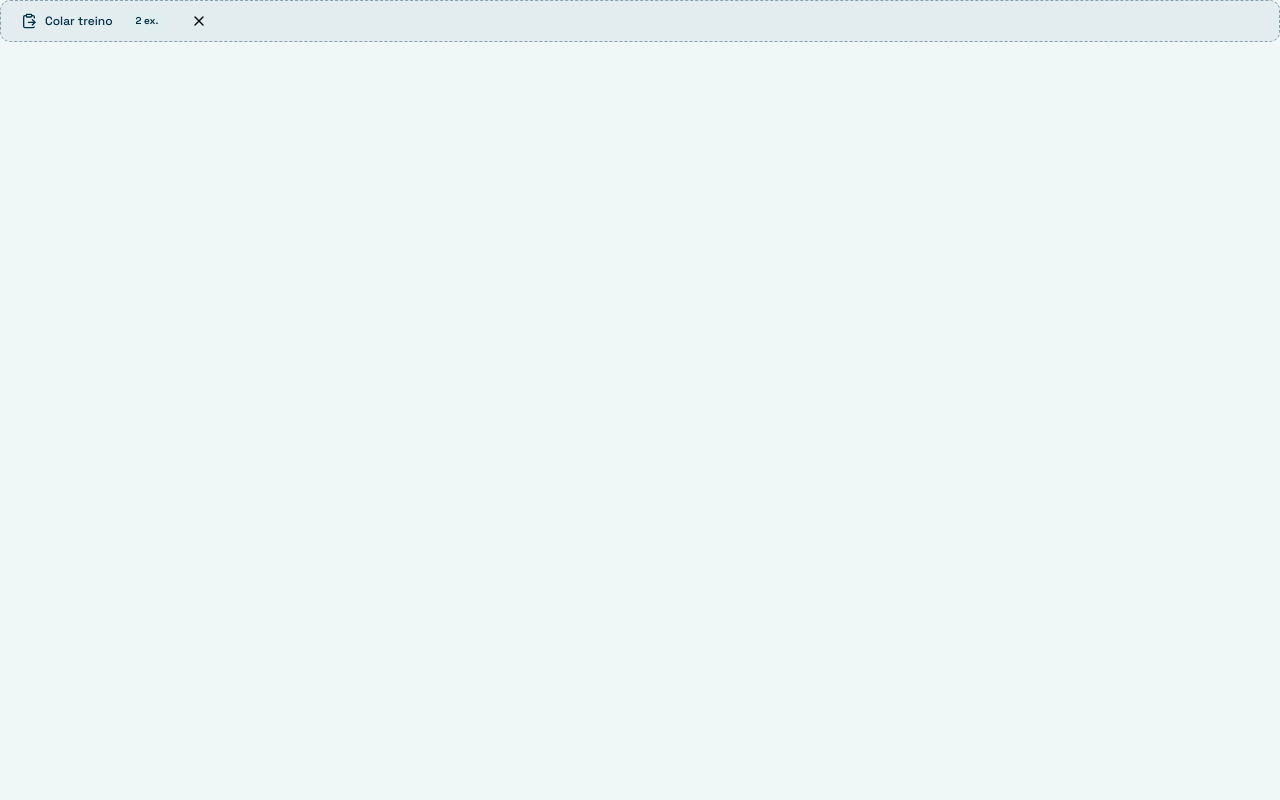
Test: ColarTreinoButton › shows the same-student message when pasting into the workout's own source student
Click the button "Colar treino 2 ex.": (95, 21) [9,5,181,37]
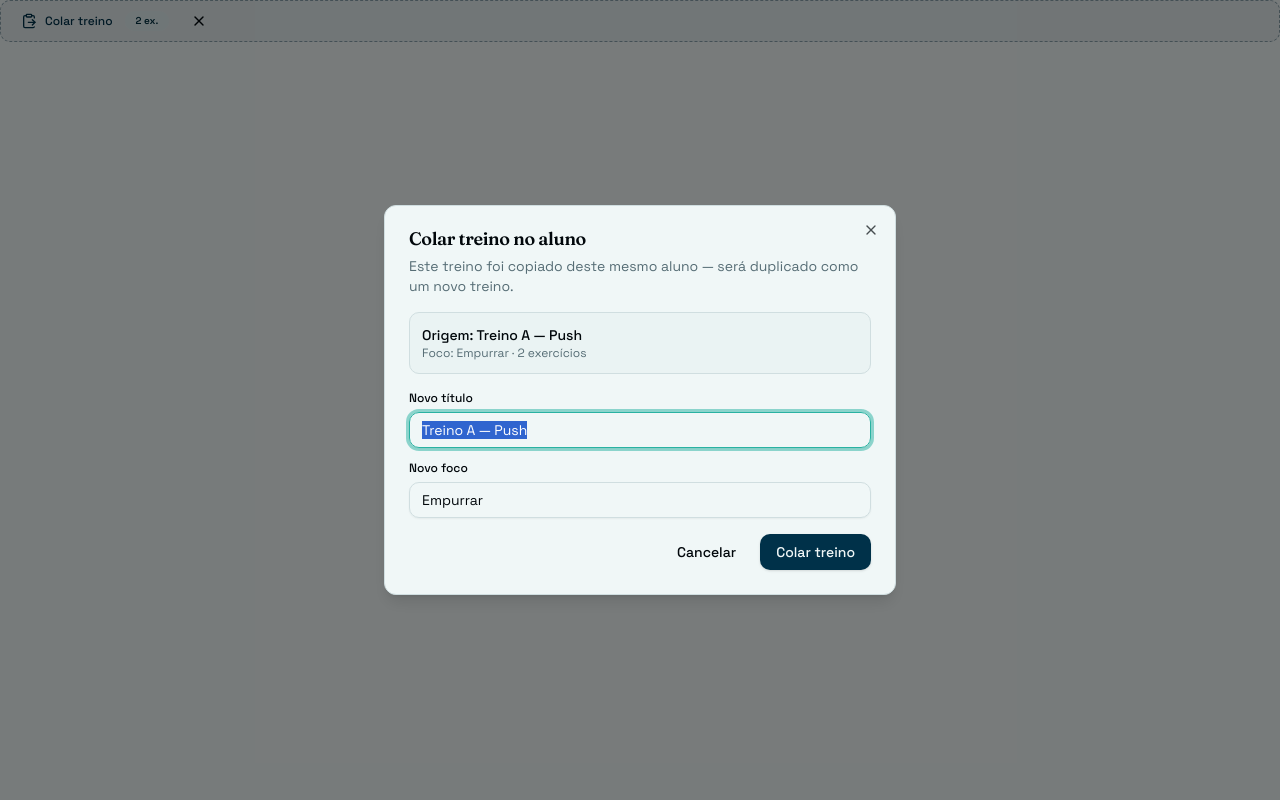
Check: the text "será duplicado como um novo treino" is shown, box [409,257,858,295]
